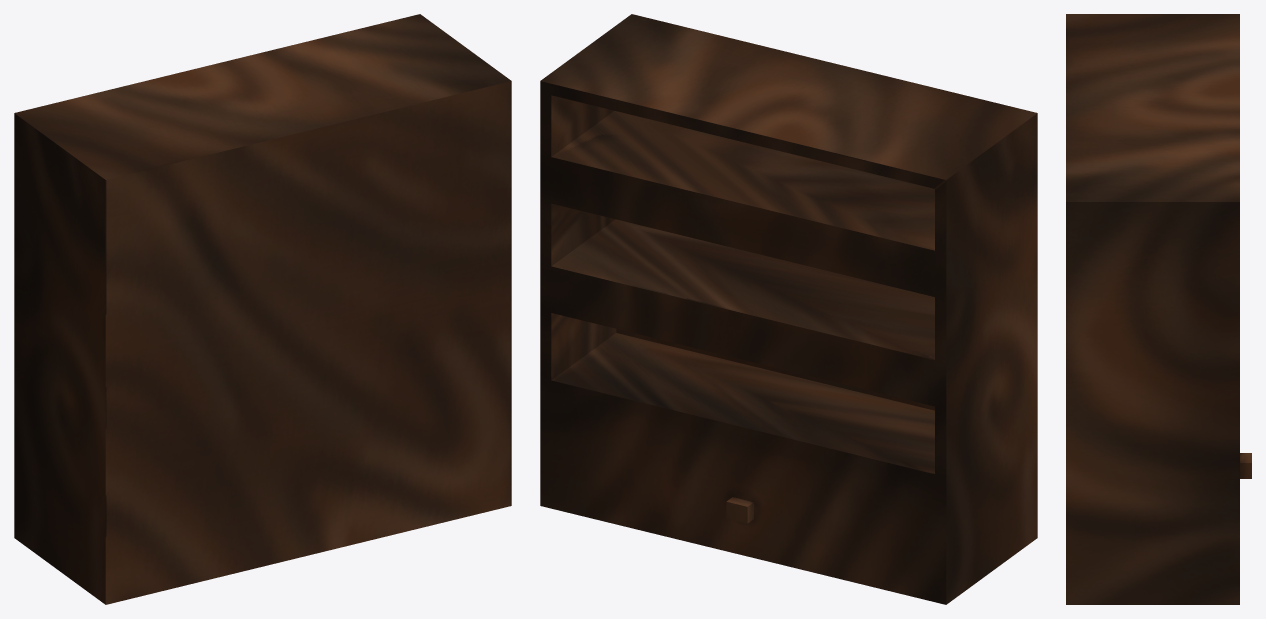
File: shelving_k.obj
The picture shows the model from 3 angles, left to right: view 1: azimuth 30°, elevation 25°; view 2: azimuth 150°, elevation 25°; view 3: azimuth 270°, elevation 25°; orthographic projection. The views are drawn at different scales.
Visible parts, largest first — view 1: Estanteria_Cube.010; view 2: Estanteria_Cube.010; view 3: Estanteria_Cube.010.
Part boxes in pixels (bbox=[...]): Estanteria_Cube.010: bbox=[14, 14, 511, 604]; Estanteria_Cube.010: bbox=[540, 14, 1037, 604]; Estanteria_Cube.010: bbox=[1066, 14, 1251, 604].
Bounding box in the file's own units: 2 × 2 × 0.8352.
